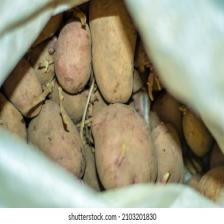Sprouted potato: (121, 1, 224, 123), (85, 76, 163, 193), (27, 86, 89, 182), (91, 1, 145, 106), (54, 8, 100, 97), (144, 106, 187, 189)
